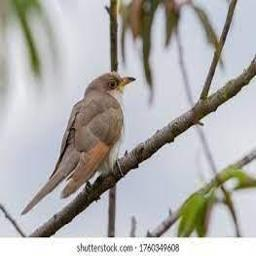Cuckoo: (21, 73, 137, 216)
